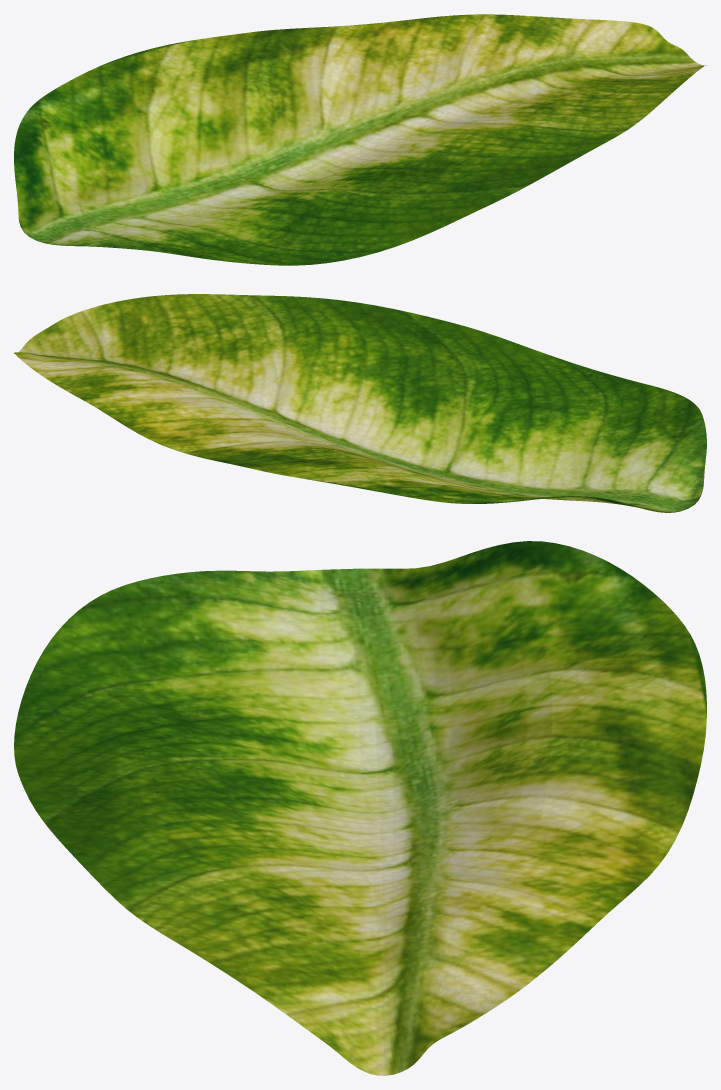
The model's file is leaf_c4.glb.
The picture shows the model from 3 angles, top to bottom: view 1: azimuth 30°, elevation 25°; view 2: azimuth 150°, elevation 25°; view 3: azimuth 270°, elevation 25°; orthographic projection. The views are drawn at different scales.
Visible parts, largest first — view 1: Circle.018; view 2: Circle.018; view 3: Circle.018.
Boxes of the visible parts, left/top/right/bottom form: Circle.018: left=14, top=14, right=706, bottom=265; Circle.018: left=14, top=294, right=706, bottom=512; Circle.018: left=14, top=541, right=706, bottom=1075.
Bounding box in the file's own units: 0.9999 × 0.086 × 0.5781.
1 material, 1 textured.
